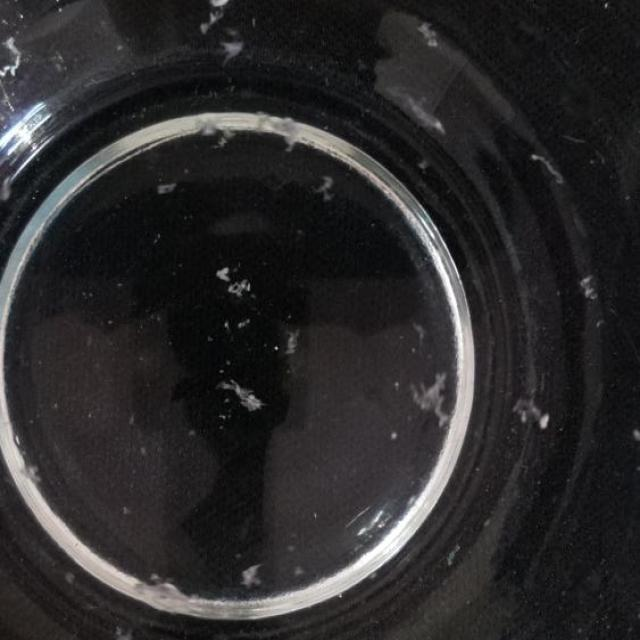fiber: (385, 82, 451, 132), (134, 571, 202, 615), (412, 372, 453, 431), (249, 112, 304, 144), (512, 395, 551, 435), (526, 149, 567, 185), (0, 32, 26, 80), (221, 380, 262, 410), (7, 461, 46, 489), (198, 114, 228, 143), (447, 539, 463, 593), (221, 39, 248, 70), (201, 2, 230, 30), (241, 560, 266, 589), (418, 23, 444, 47), (578, 272, 598, 302), (228, 277, 253, 297), (316, 174, 336, 198), (283, 332, 302, 356), (218, 261, 235, 287), (626, 422, 640, 446), (154, 179, 177, 193)
